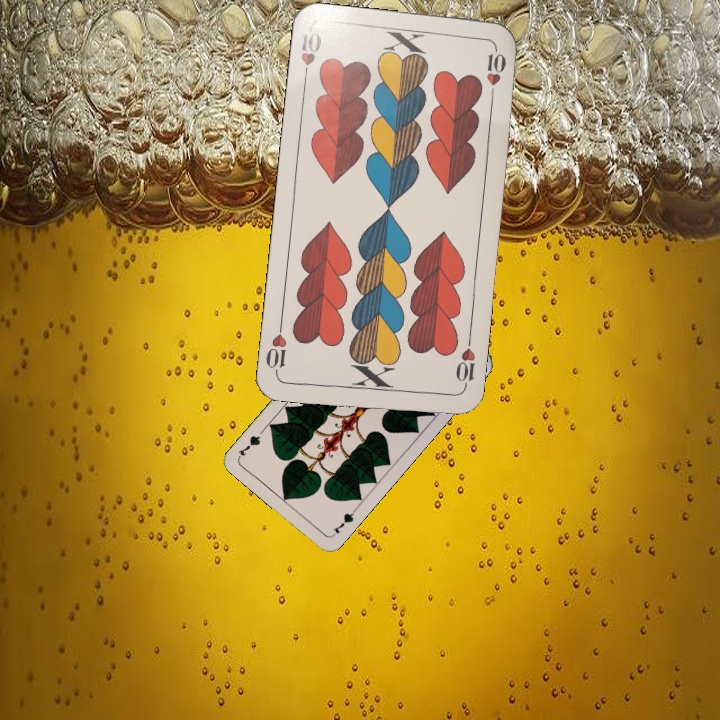G7: (328, 506, 358, 539)
H10: (297, 28, 325, 86), (451, 334, 478, 393)
